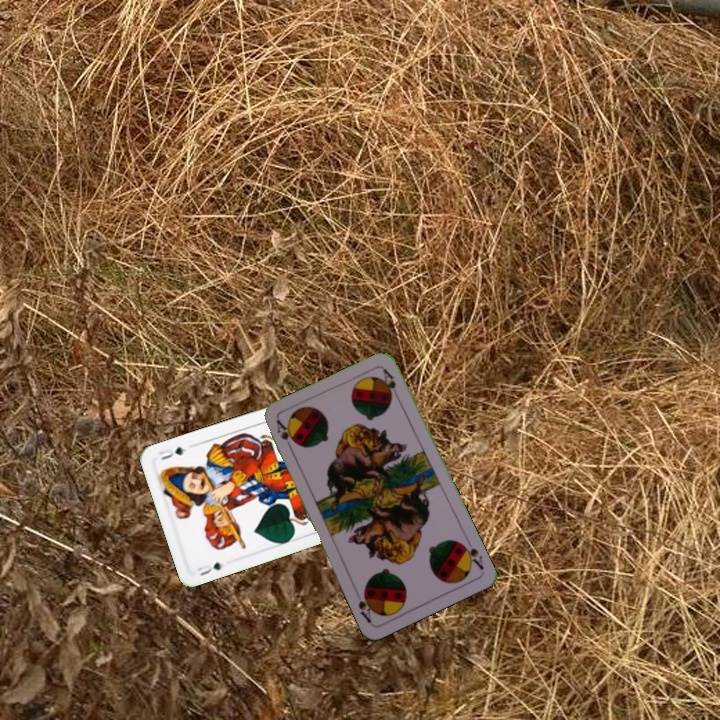GU: (193, 557, 227, 578)
SA: (456, 535, 486, 572), (272, 415, 297, 454)
